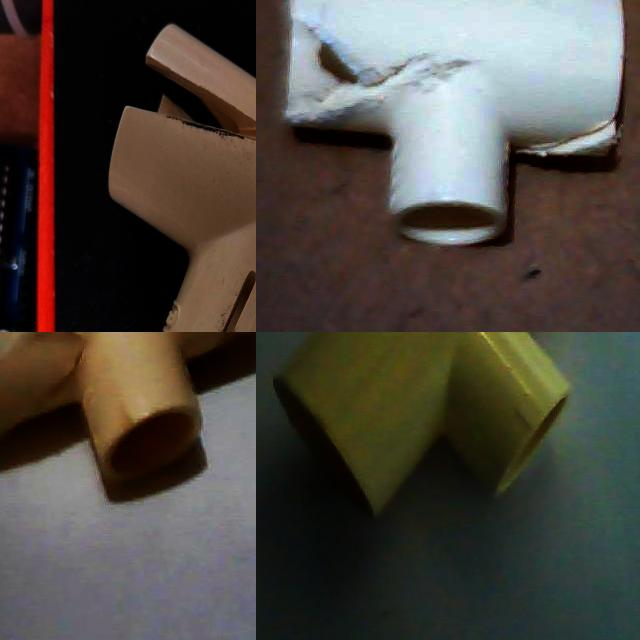Defective: (0, 332, 90, 418), (528, 102, 615, 172)
T Joint: (286, 0, 626, 250), (0, 108, 256, 332), (272, 332, 572, 521)
